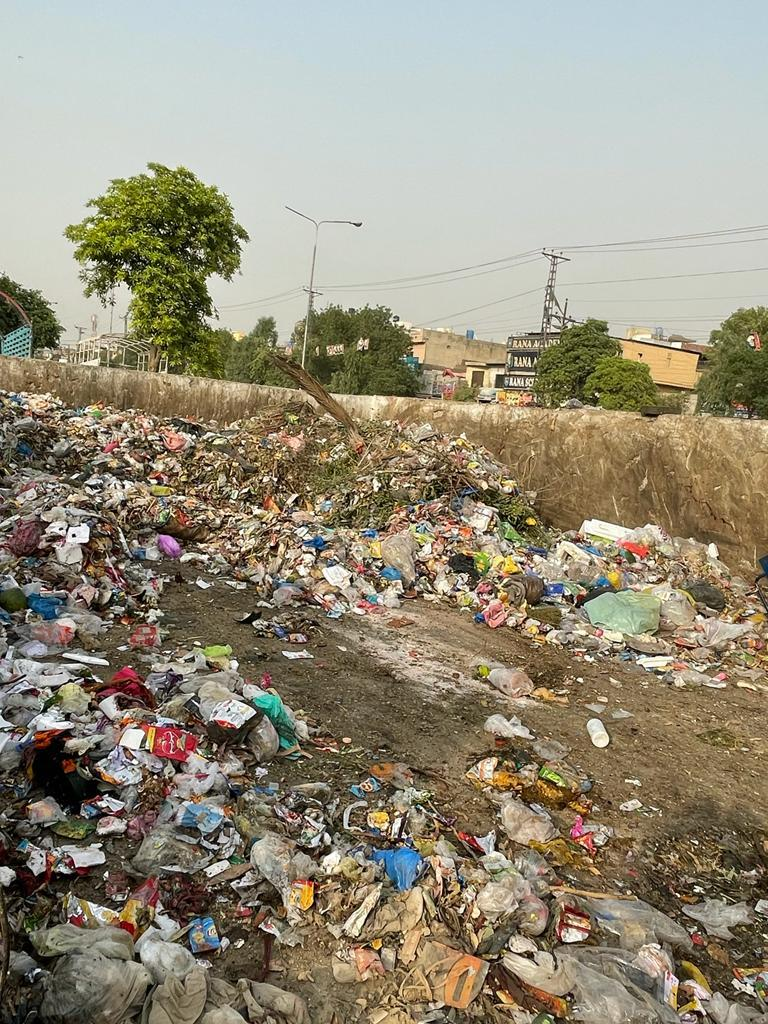garbage: (0, 386, 764, 1024)
